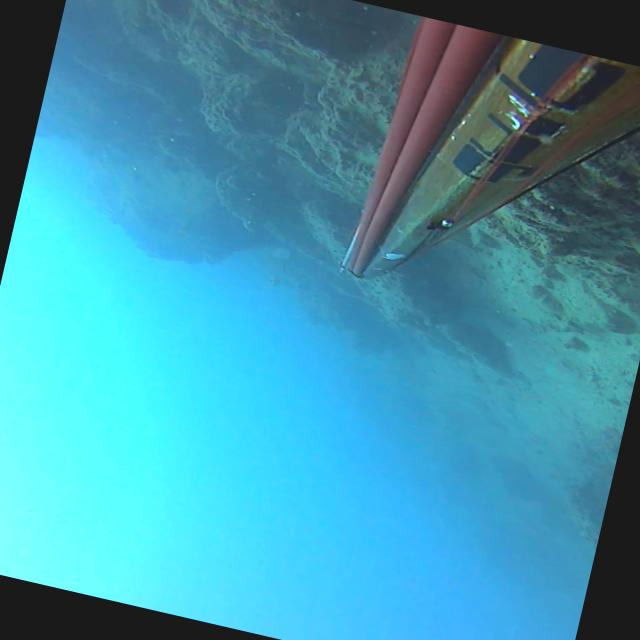Balon Baligi: (267, 273, 282, 286)
